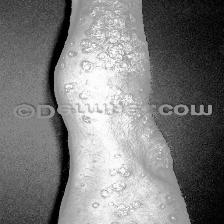Non-Cancerous Skin Condition: (82, 0, 142, 71), (98, 32, 143, 72), (100, 181, 126, 199), (116, 202, 142, 218)
